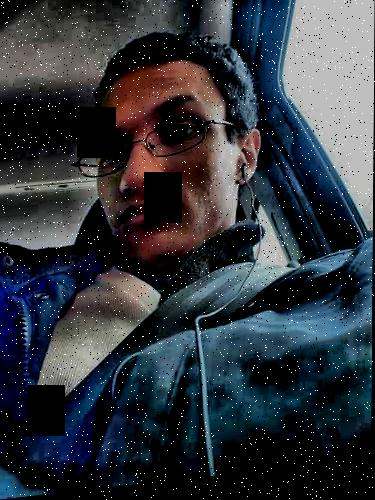seatbelt: (80, 247, 318, 406)
